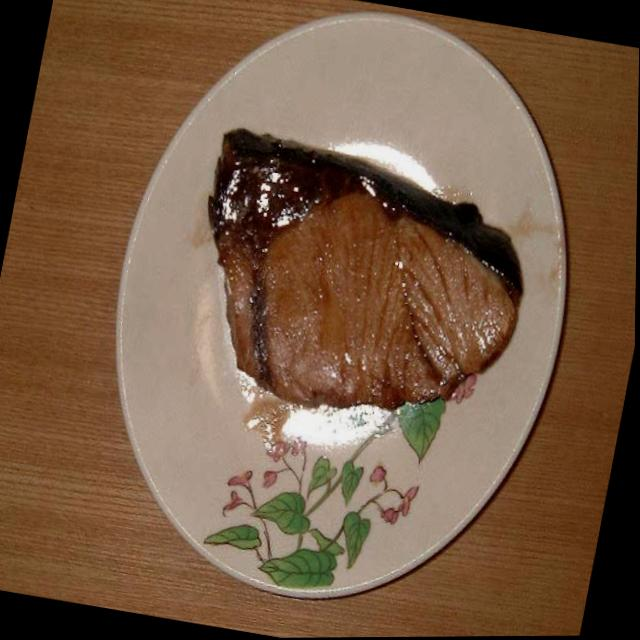熟制海鲜: (159, 91, 559, 454)
